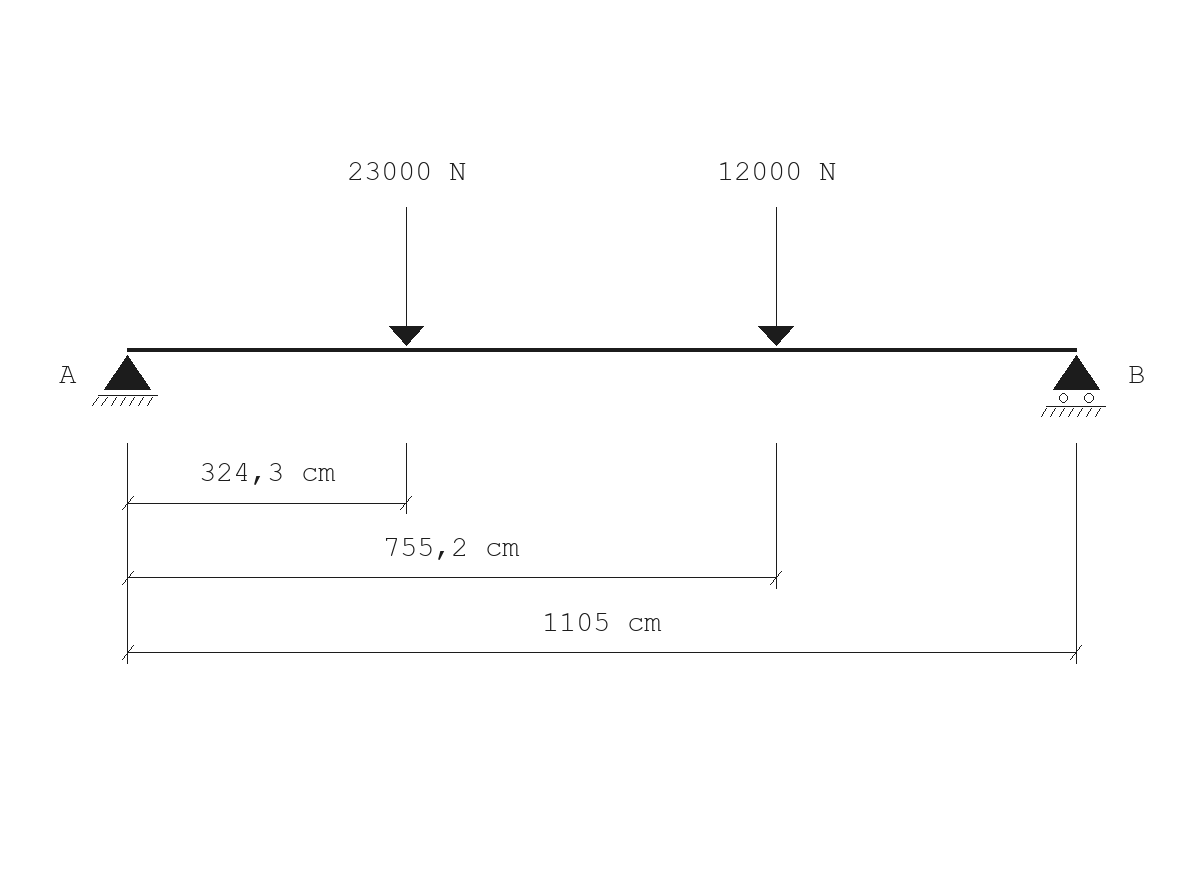pin_support: (92, 355, 158, 406)
point_load: (758, 207, 794, 346), (389, 207, 424, 346)
roller_support: (1041, 355, 1106, 417)
